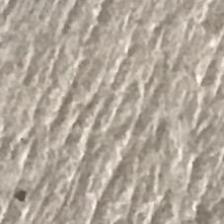Non_Crack: (24, 16, 218, 204)
